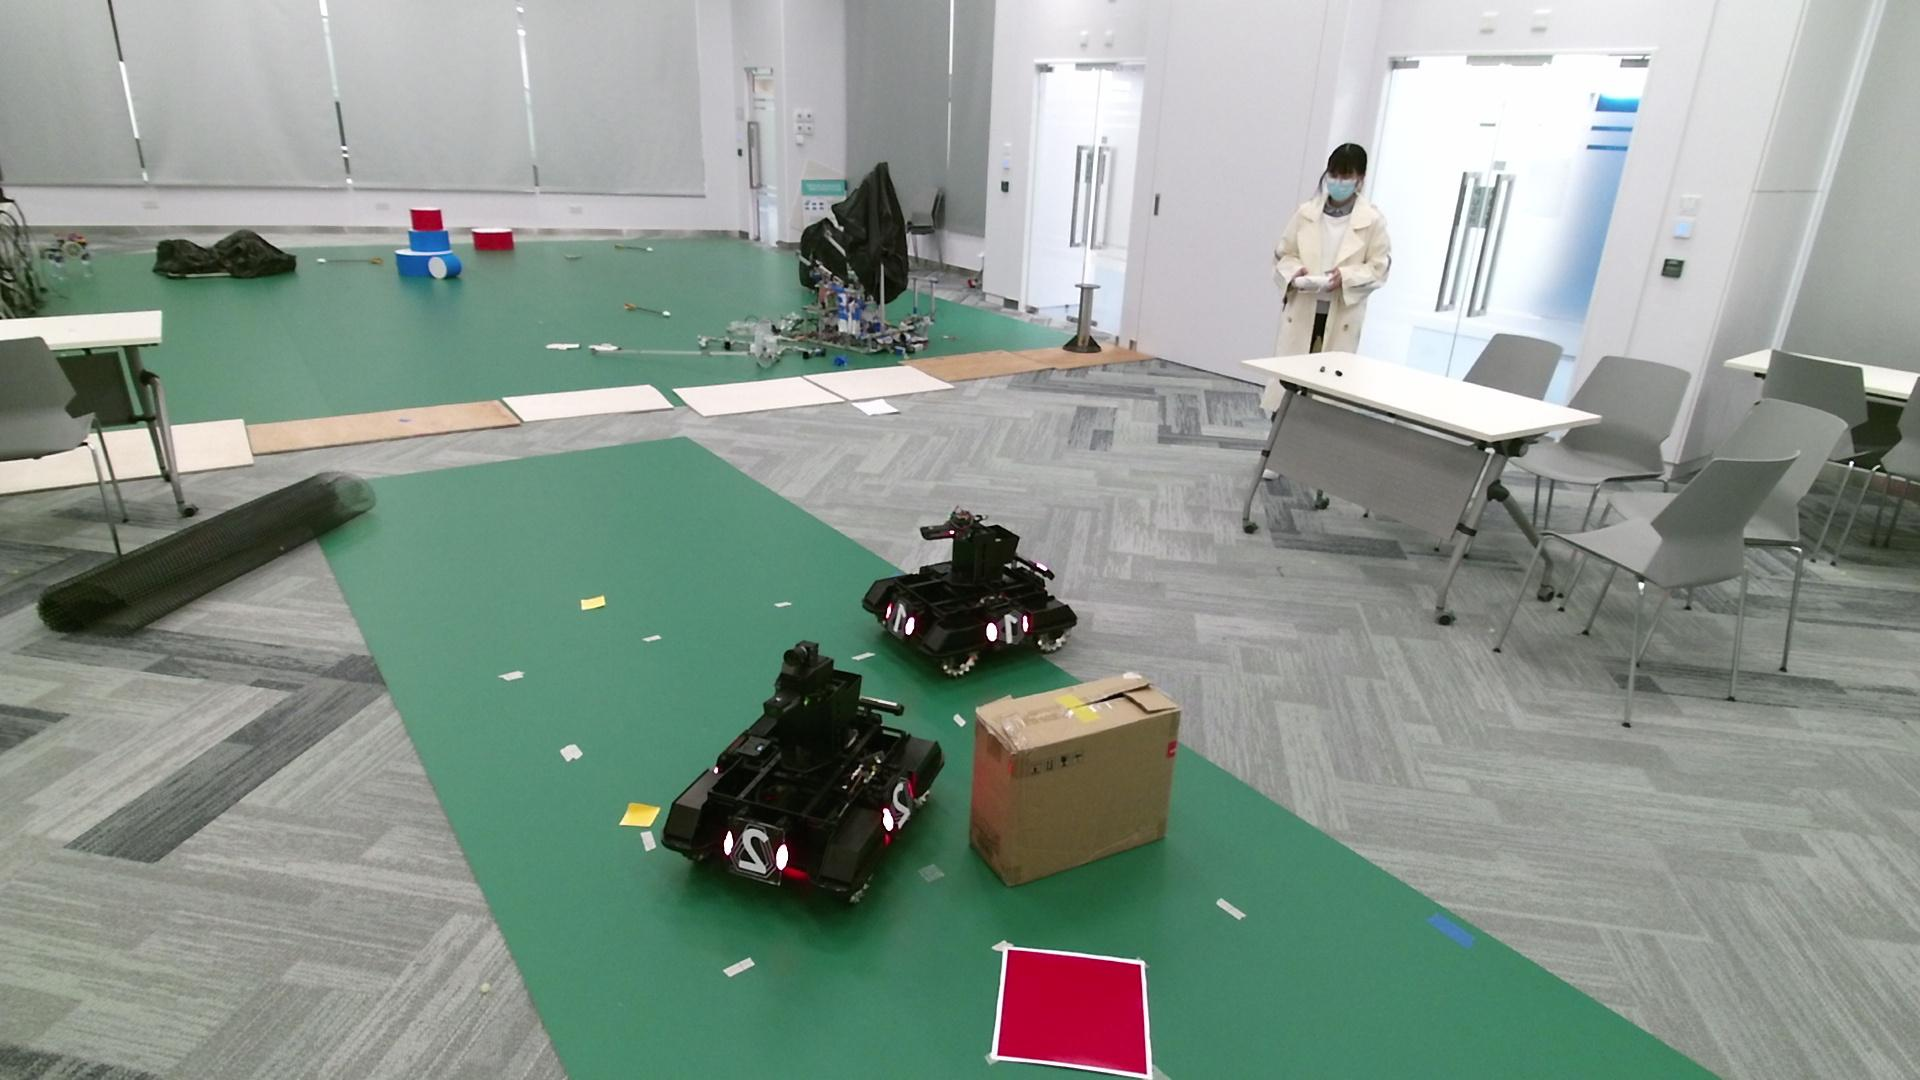robot: (659, 638, 945, 909), (860, 510, 1079, 679)
